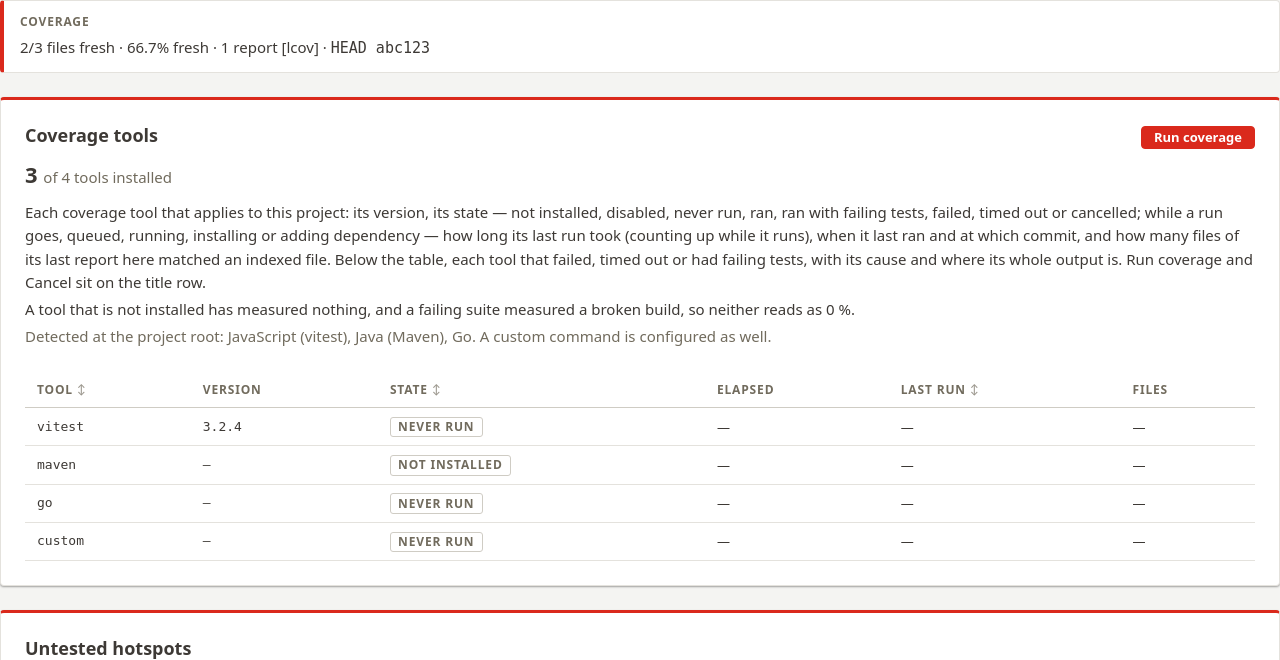
Test case: Run coverage on the Coverage page (S-739) › joins the run going on a second click from a tab that had not seen it
The width and height of the screenshot is (1280, 660).
Click the button "Run coverage".
click(1198, 137)  # box [1141,126,1255,149]
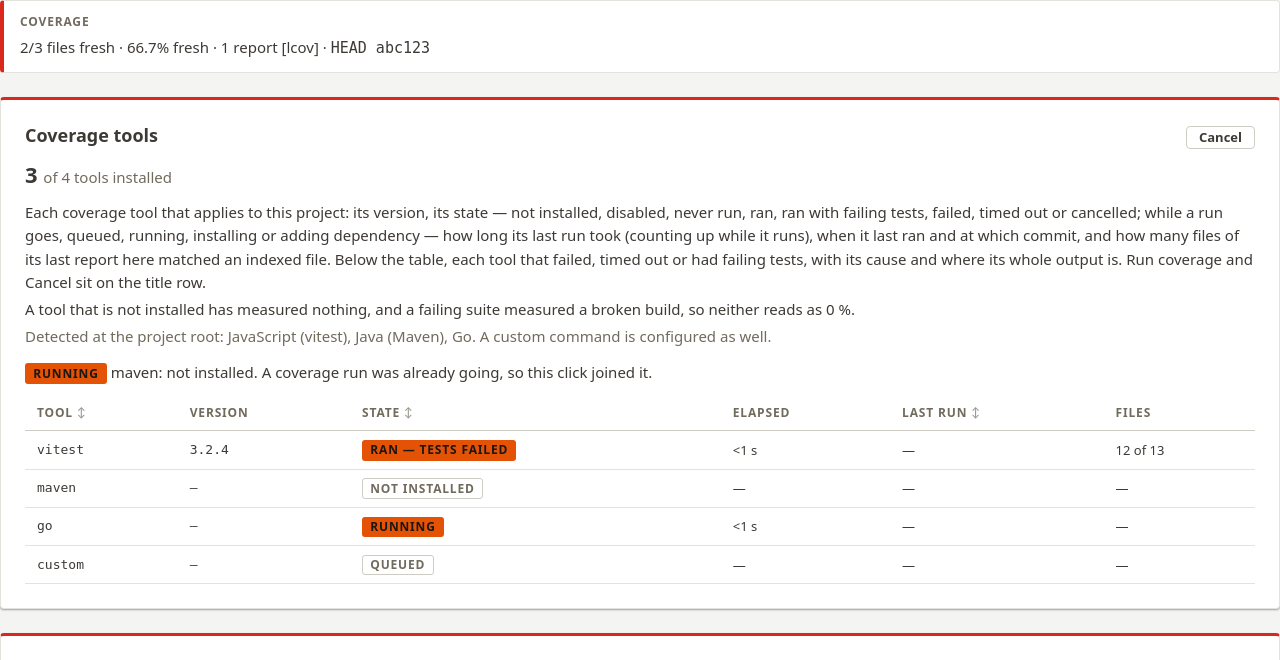
Expected: the element that starts with "running" shows "A coverage run was already going, so this click joined it.", [262,362,652,382]
